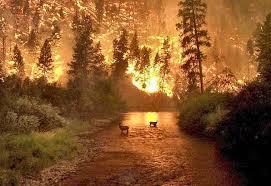fire: (8, 14, 253, 101), (105, 39, 182, 102), (41, 43, 74, 87)
